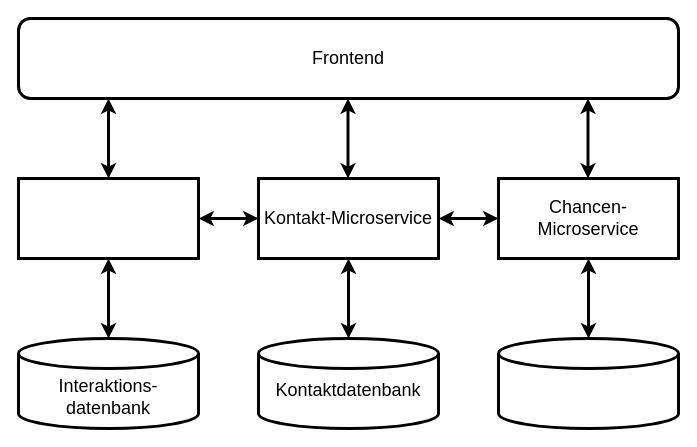
This 697x447 diagram has some shape labels left out. Here are the shapes that lost their labels. From the top down, the centre of each, then its label:
At pixel 108 218: "Interaktions-Microservice".
At pixel 588 383: "Chancendatenbank".
